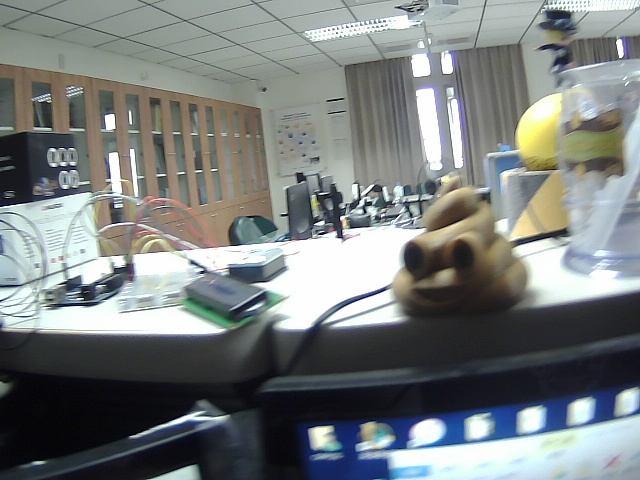shit: (395, 171, 532, 324)
